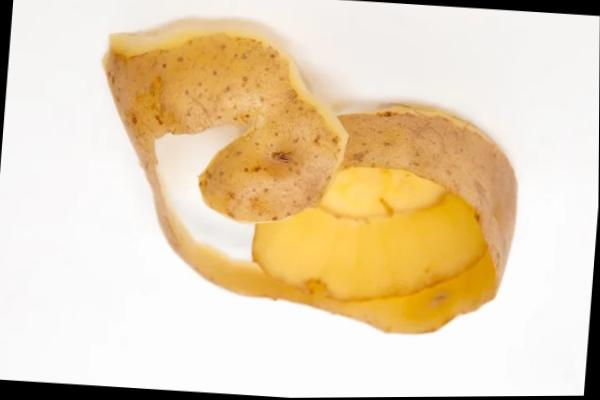organic: (105, 19, 516, 333)
